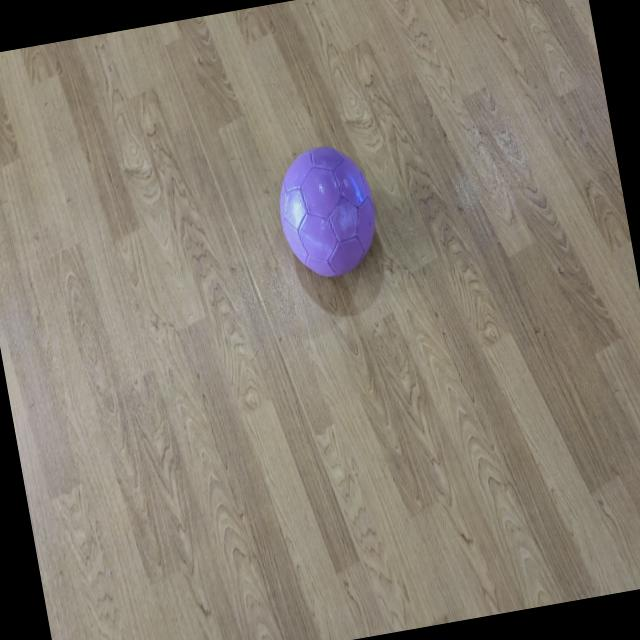purple_ball: (268, 142, 386, 284)
